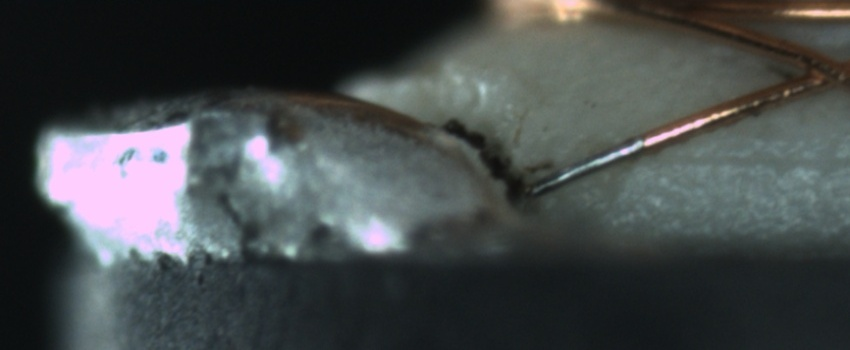CL: (771, 43, 850, 100)
DL: (635, 128, 850, 192)
TS: (521, 133, 645, 201)
